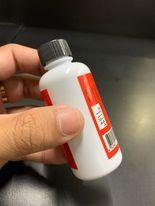-Bottle-: (37, 39, 123, 180)
